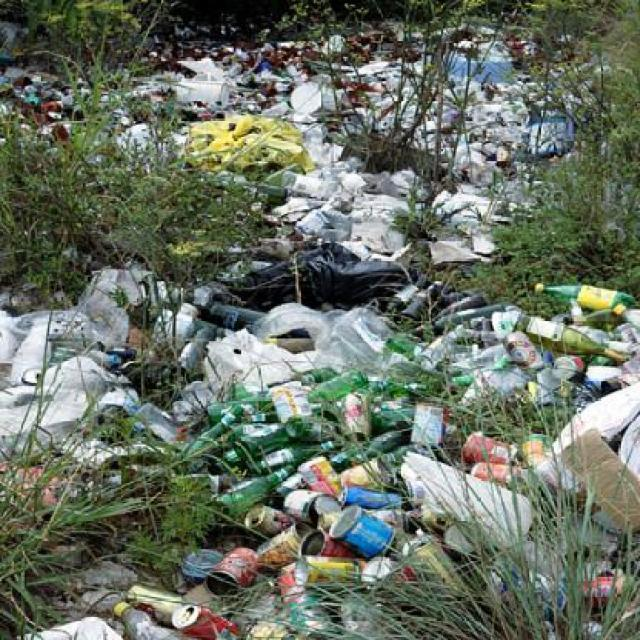garbage: (412, 274, 636, 526), (226, 317, 394, 601), (0, 280, 213, 462), (339, 20, 596, 162), (148, 40, 314, 172), (2, 21, 151, 166), (294, 170, 428, 269), (59, 599, 319, 635)
